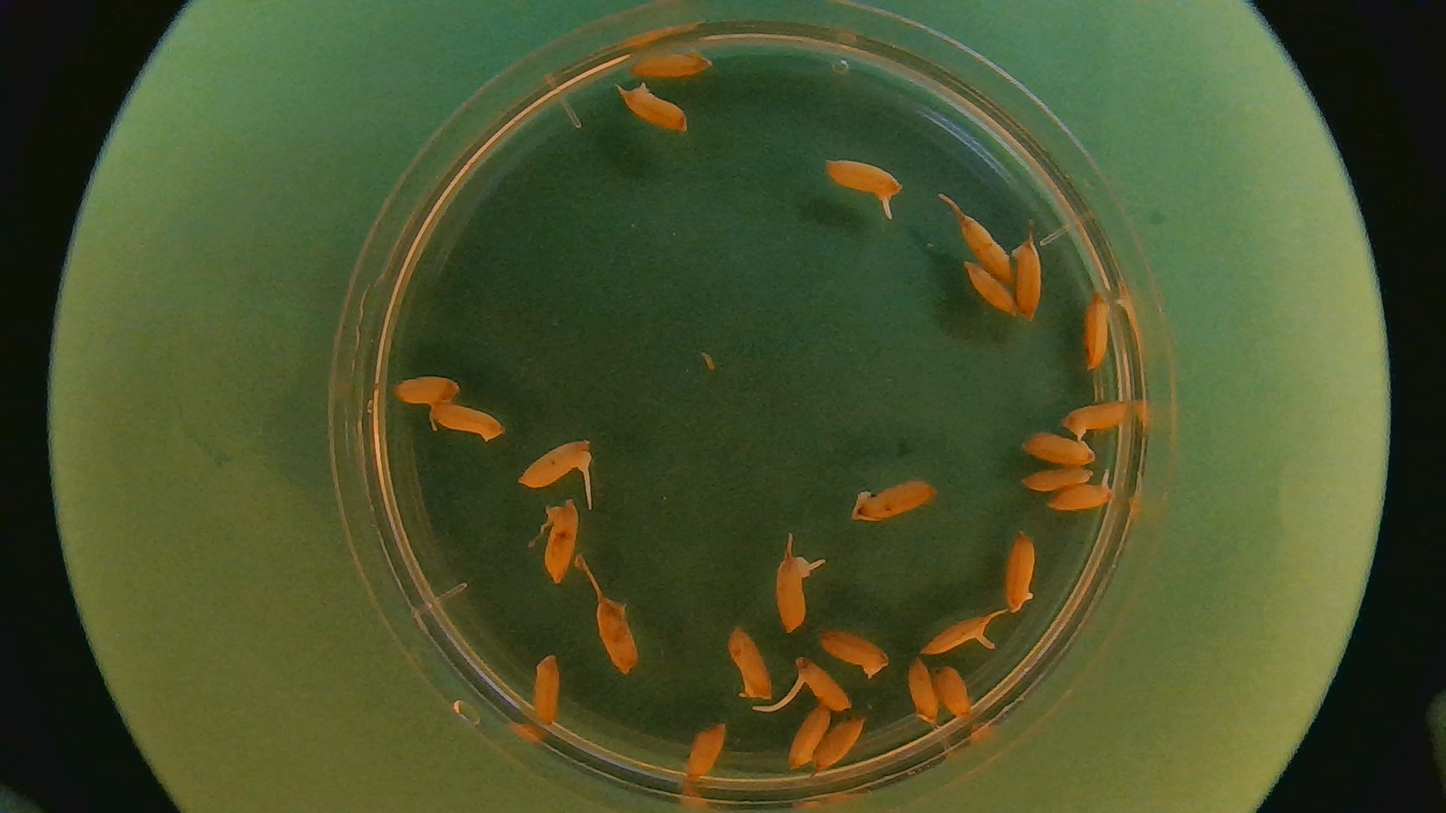no: (593, 574, 641, 677), (532, 497, 582, 588), (801, 713, 870, 778), (847, 478, 941, 525), (719, 626, 775, 703), (994, 527, 1039, 614), (819, 627, 892, 680), (958, 214, 1013, 284), (624, 82, 691, 138), (429, 399, 507, 447), (962, 259, 1020, 321), (1008, 232, 1047, 322), (678, 719, 732, 784), (784, 696, 832, 769), (627, 45, 715, 82), (1020, 431, 1099, 469), (387, 373, 462, 412), (1079, 290, 1114, 372), (900, 653, 941, 723), (932, 661, 980, 719), (530, 654, 564, 733), (1024, 464, 1092, 490)
yes: (792, 653, 859, 713), (520, 434, 590, 488), (1060, 394, 1139, 440), (771, 550, 810, 635), (827, 157, 904, 198), (924, 613, 993, 654), (1043, 475, 1116, 513)
